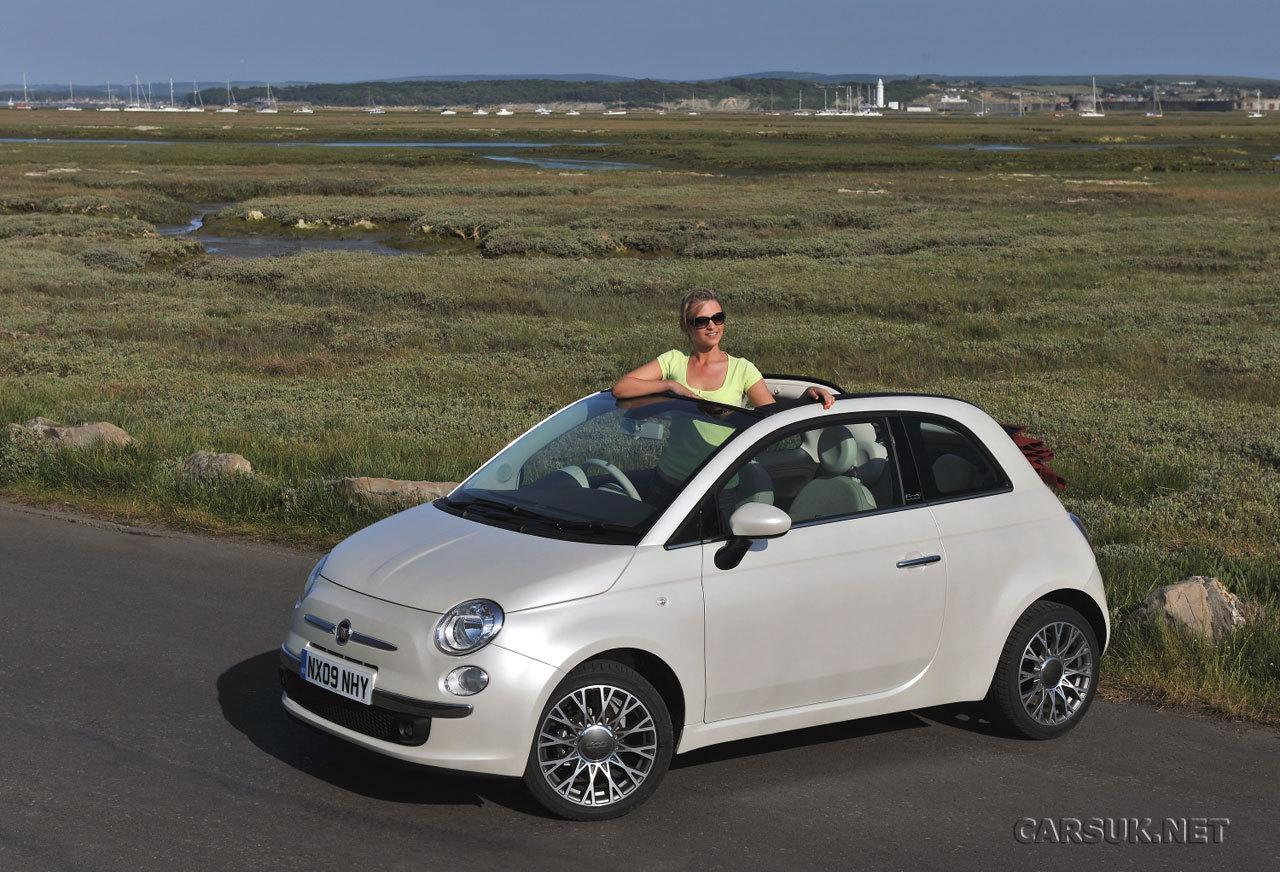Car: (259, 324, 1161, 826)
